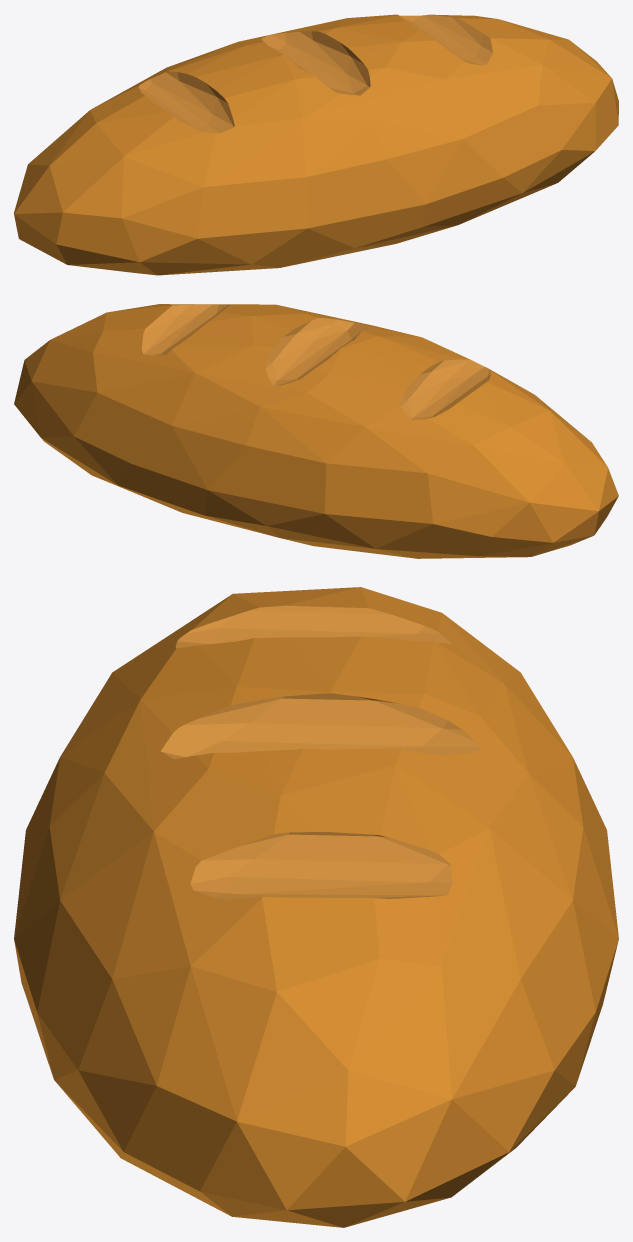
Rendered from SM_Food_Bread_01.fbx.
The picture shows the model from 3 angles, top to bottom: view 1: azimuth 30°, elevation 25°; view 2: azimuth 150°, elevation 25°; view 3: azimuth 270°, elevation 25°; orthographic projection. The views are drawn at different scales.
Parts seen in each view (by area): view 1: SM_Food_Bread_01; view 2: SM_Food_Bread_01; view 3: SM_Food_Bread_01.
Part boxes in pixels (x1,y1,x2,y2): SM_Food_Bread_01: (14,14,618,275); SM_Food_Bread_01: (14,304,618,558); SM_Food_Bread_01: (14,587,618,1227).
Size of the model in its own units: 0.3486 by 0.0981 by 0.165.
